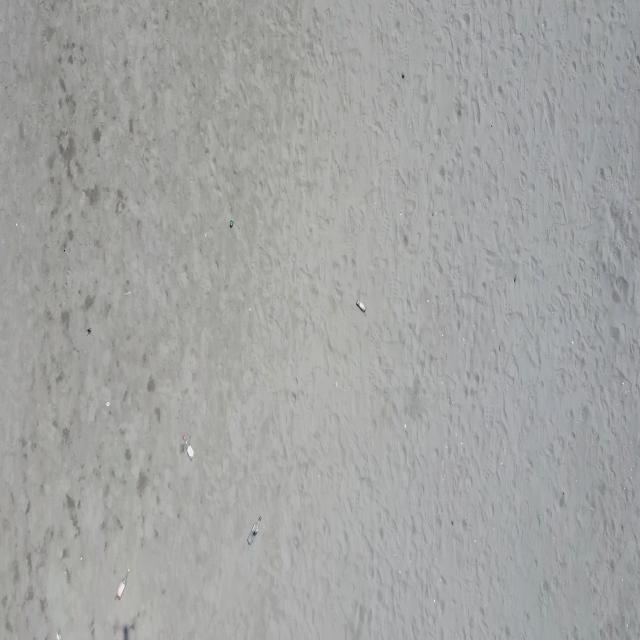glass: (115, 568, 131, 600), (248, 516, 261, 545), (183, 434, 195, 461), (356, 299, 367, 313), (231, 220, 233, 228)
